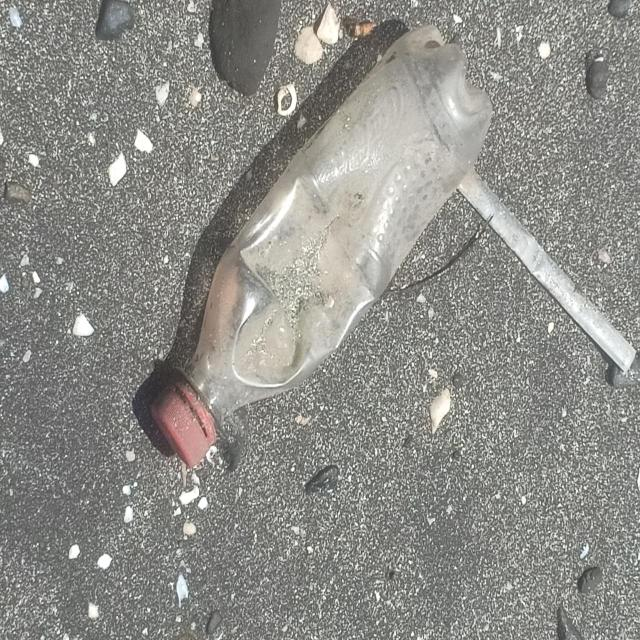plastic_waste: (151, 28, 491, 473)
